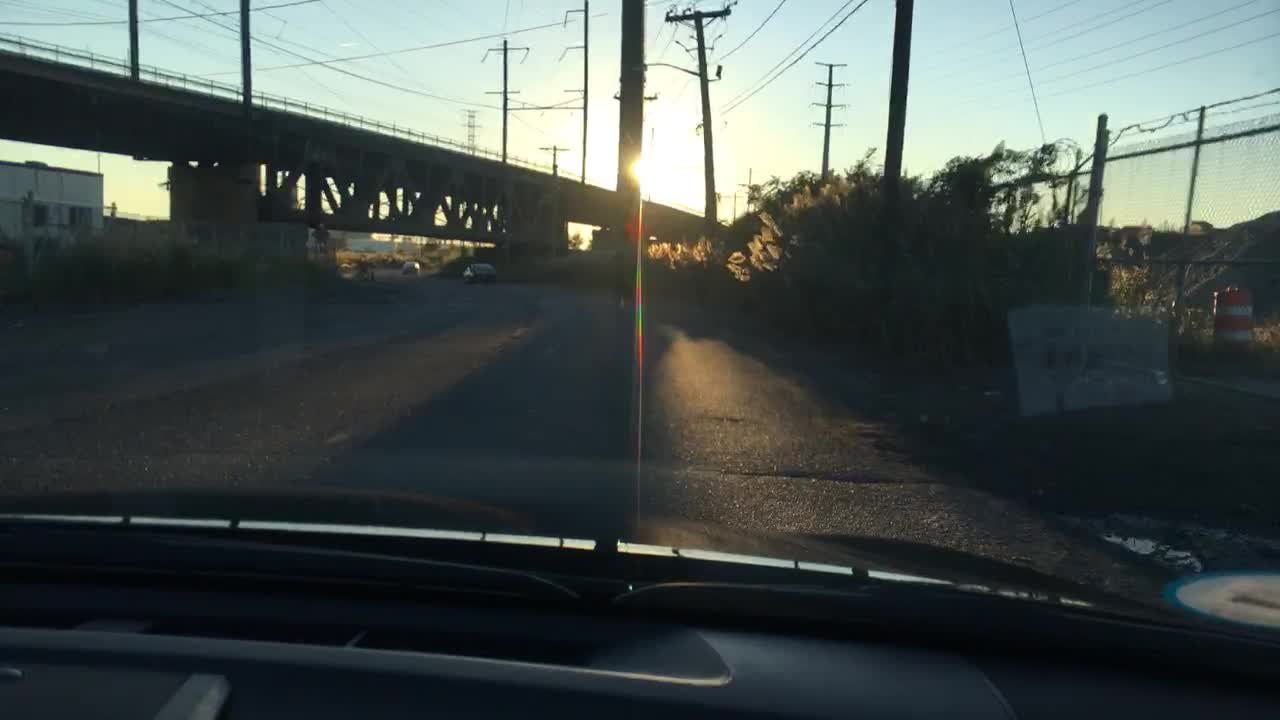car: (335, 257, 373, 280), (457, 261, 499, 281), (401, 260, 422, 275)
traffic sign: (310, 225, 330, 242)
